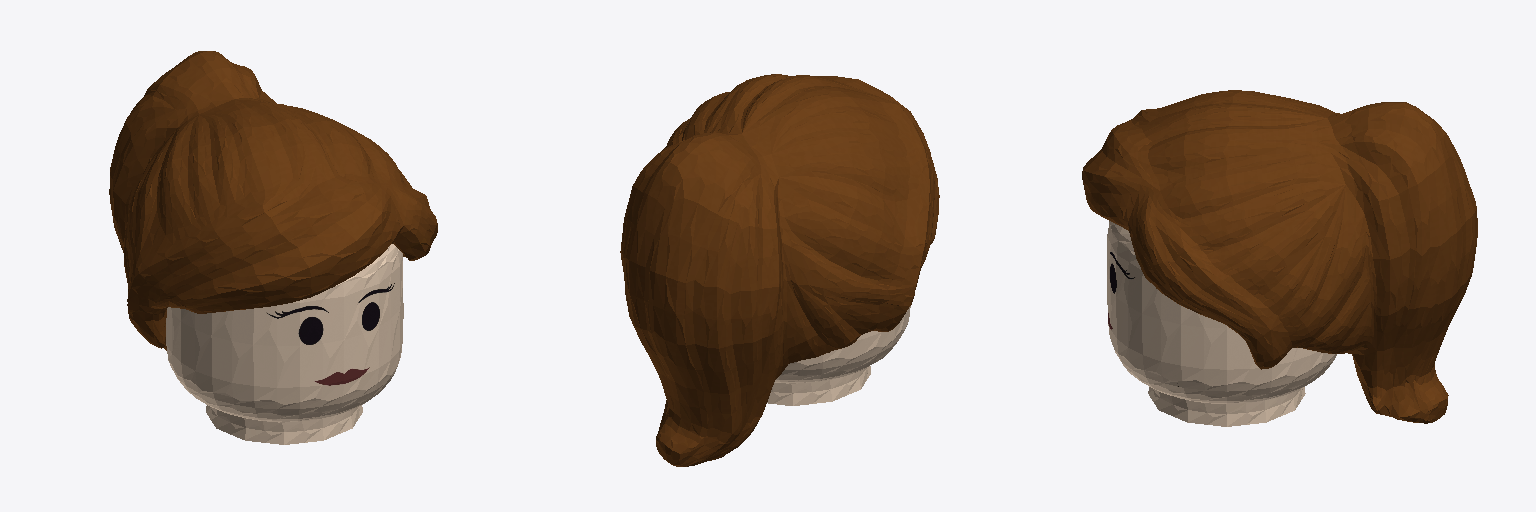
3 renders of one model, left to right at view 1: azimuth 30°, elevation 25°; view 2: azimuth 150°, elevation 25°; view 3: azimuth 270°, elevation 25°, orthographic.
Parts seen in each view (by area): view 1: cabeza; view 2: cabeza; view 3: cabeza.
Part boxes in pixels (x1,y1,x2,y2): cabeza: (109, 51, 437, 444); cabeza: (620, 74, 939, 466); cabeza: (1082, 90, 1477, 426).
Size of the model in its own units: 12.34 by 13.28 by 15.3.
2 materials, 2 textured.